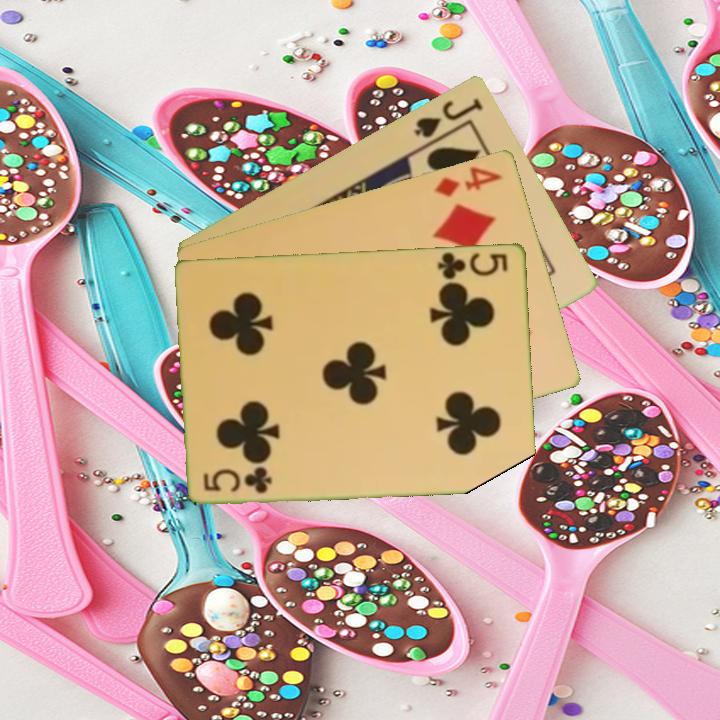4d: (430, 162, 506, 199)
5c: (435, 248, 511, 282), (200, 464, 275, 496)
Js: (410, 94, 486, 140)
